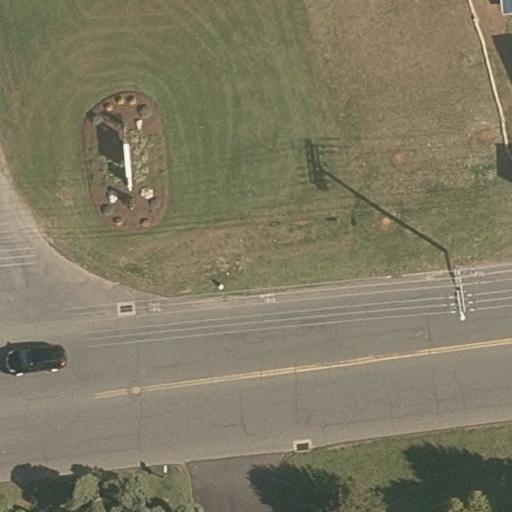DT: (439, 248, 494, 326)
